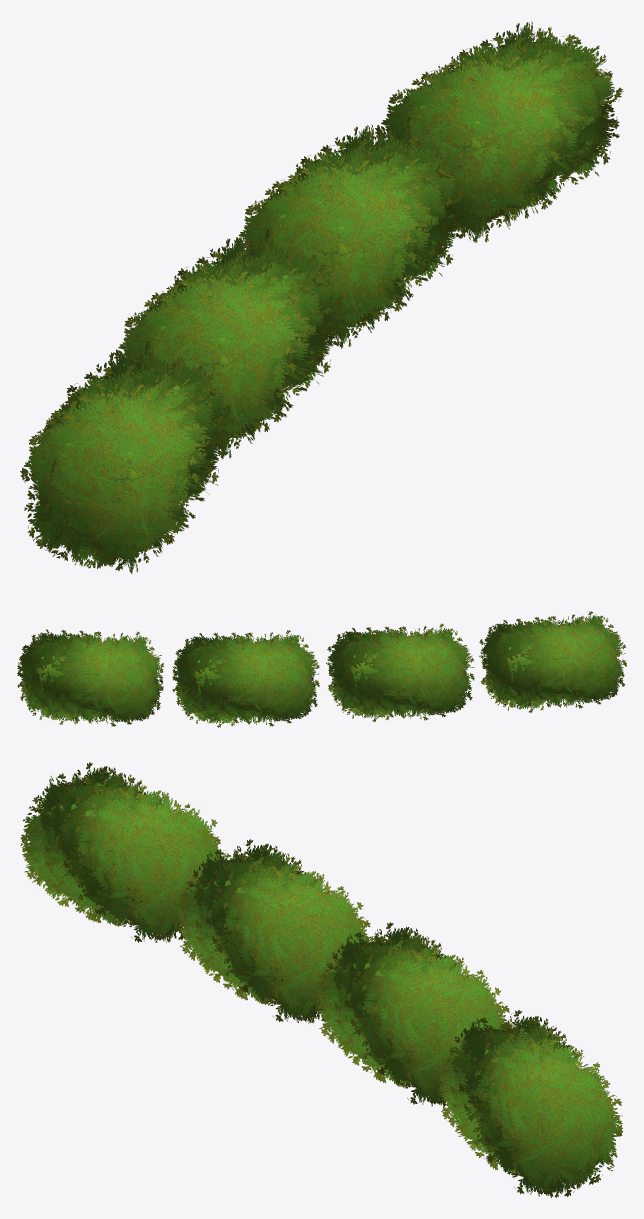
Rendered from SM_Bush06_Splines_22.fbx.
The picture shows the model from 3 angles, top to bottom: view 1: azimuth 30°, elevation 25°; view 2: azimuth 150°, elevation 25°; view 3: azimuth 270°, elevation 25°; orthographic projection. The views are drawn at different scales.
Parts seen in each view (by area): view 1: SM_Bush06_Splines_22_LOD0; view 2: SM_Bush06_Splines_22_LOD0; view 3: SM_Bush06_Splines_22_LOD0.
Boxes of the visible parts, x1,y1,x2,y2 form: SM_Bush06_Splines_22_LOD0: (20,21,623,573); SM_Bush06_Splines_22_LOD0: (17,611,626,727); SM_Bush06_Splines_22_LOD0: (20,762,622,1197).
Size of the model in its own units: 906 by 673 by 166.
